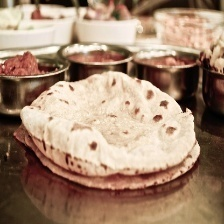roti: (12, 70, 201, 190)
